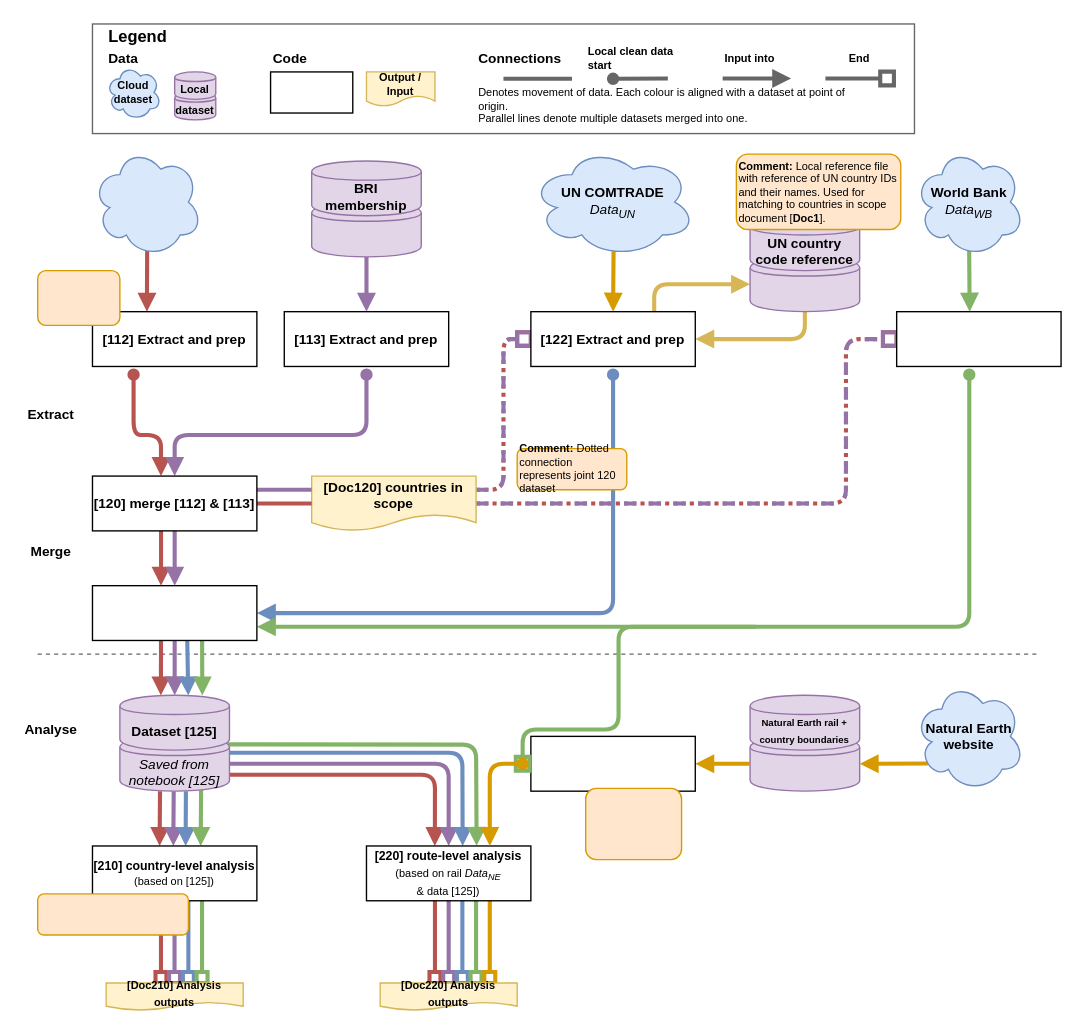
The diagram is 1085 pixels wide and 1034 high, and some of its shapes have lost their labels. Here are the shapes that lost their labels. From the top down, the centre of each, then its label:
At (311,92): "[Notebook #] Description".
At (146,201): "DGD Data grav".
At (365,229): "Data BRI".
At (78,297): "Comment: Correct any inaccuracies in the data".
At (804,284): "Data UN".
At (978,338): "[121] Extract and prep".
At (174,612): "[125] merge [120] & [121]".
At (612,763): "QGIS processing Filter and overlay rail routes with country iso3".
At (804,763): "Data NE".
At (633,823): "Comment: Improvement point to transfer the QGIS block to Python".
At (112,914): "Comment: Carry out changes to data for analysis (not due to it being incorrect)".
